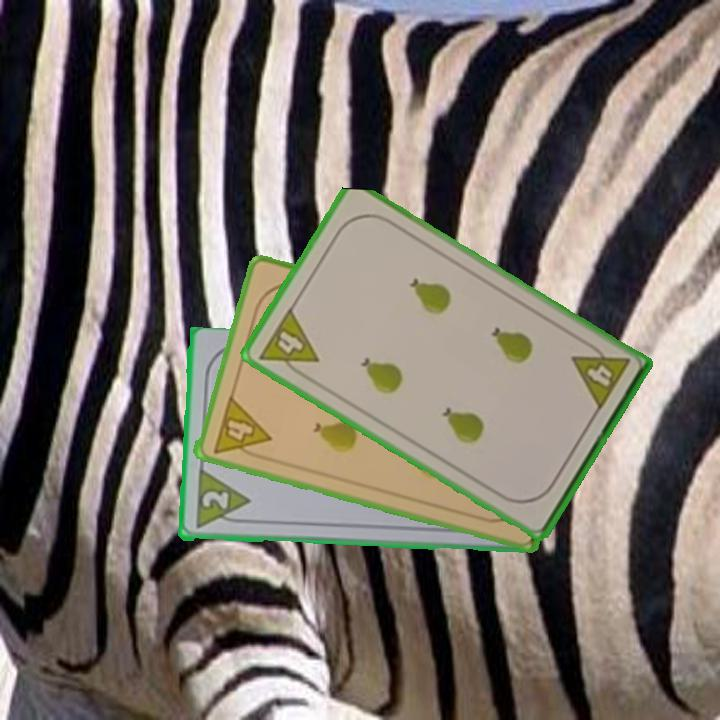2p: (192, 468, 252, 532)
4p: (255, 304, 322, 383), (568, 337, 633, 414), (209, 392, 273, 463)
